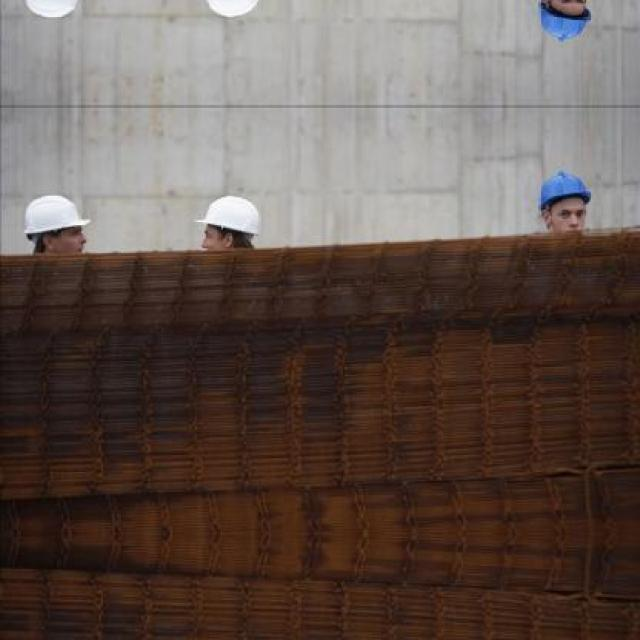helmet: (15, 188, 96, 264), (191, 191, 271, 261), (531, 167, 595, 242), (531, 0, 597, 46), (15, 0, 97, 26), (191, 0, 272, 22)
